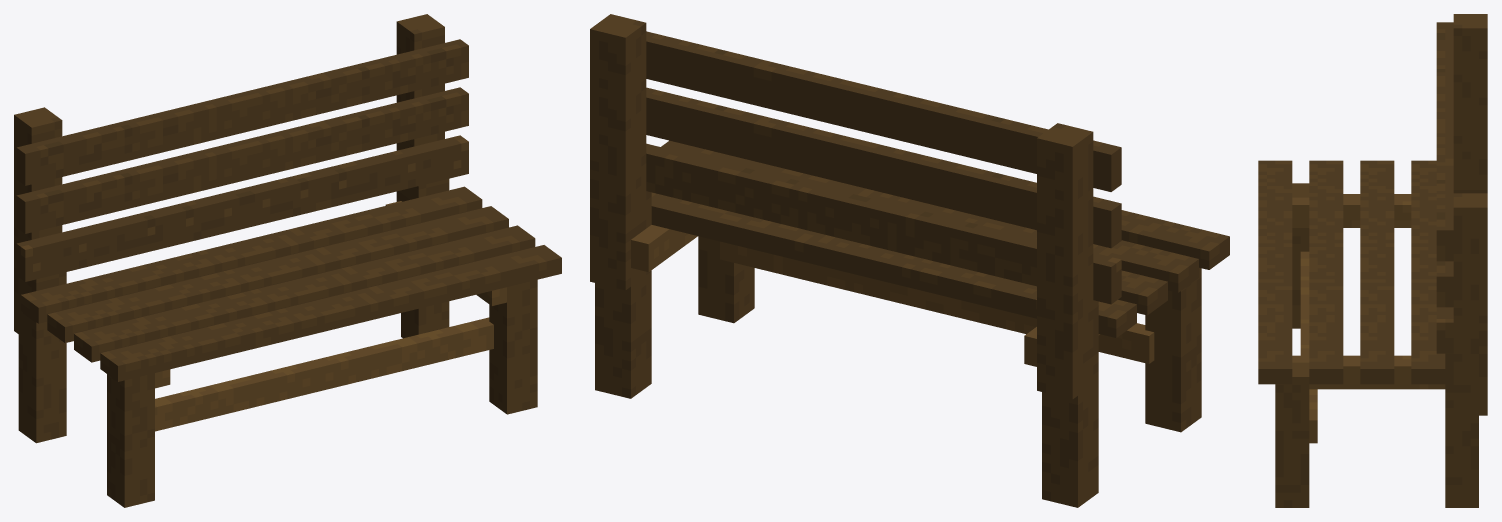
File: Environment-0.obj
3 renders of one model, left to right at view 1: azimuth 30°, elevation 25°; view 2: azimuth 150°, elevation 25°; view 3: azimuth 270°, elevation 25°, orthographic. The views are drawn at different scales.
Size of the model in its own units: 5.8 by 3.9 by 2.7.
1 material, 1 textured.
